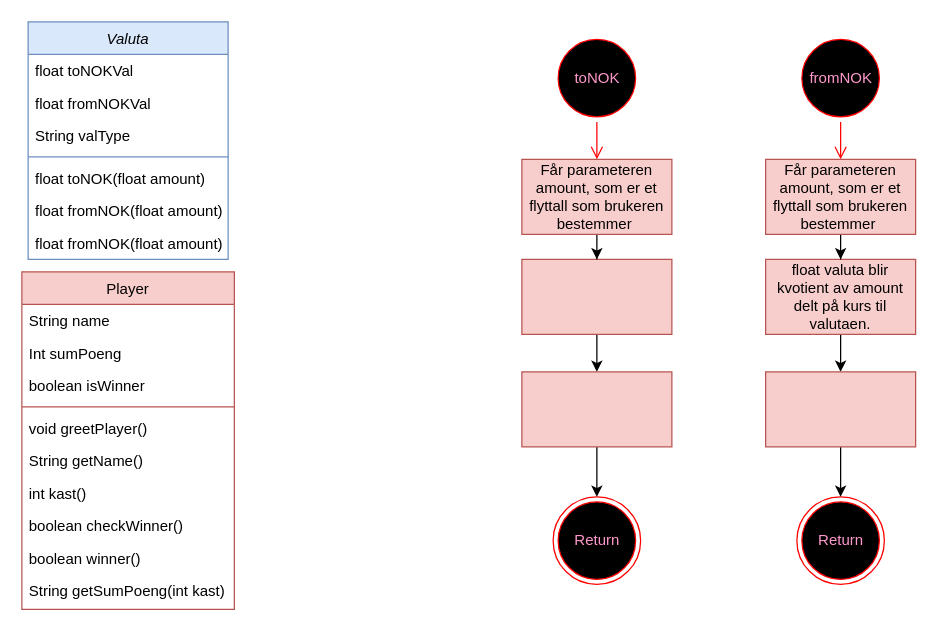
This 938x633 diagram has some shape labels left out. The shapes that lost their labels are listed below. From the top down, each one's centre as x and y in pixels, then its label:
(x=596, y=296): float NOK blir produktet av amount ganger kursen til valutaen.
(x=596, y=409): Skriver ut en formatert tekst: "{amount} {valType} blir {NOK} NOK."
(x=840, y=409): Skriver ut en formatert tekst: "{amount} NOK blir {valuta} {valType}."
